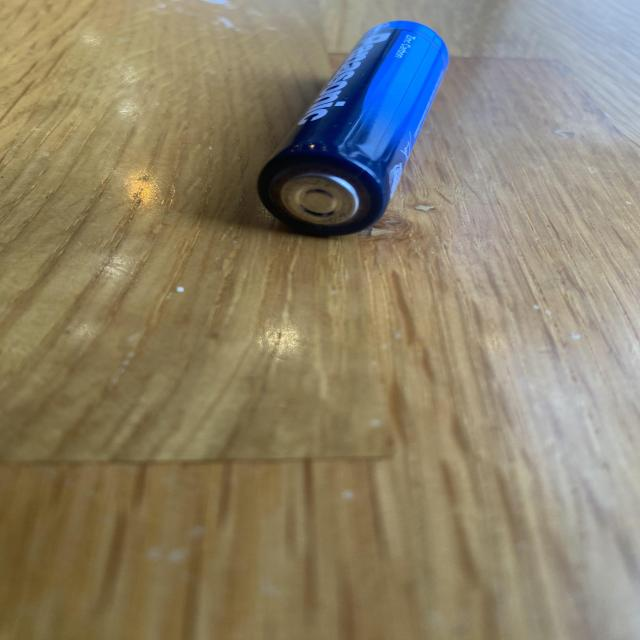AA: (256, 19, 450, 237)
